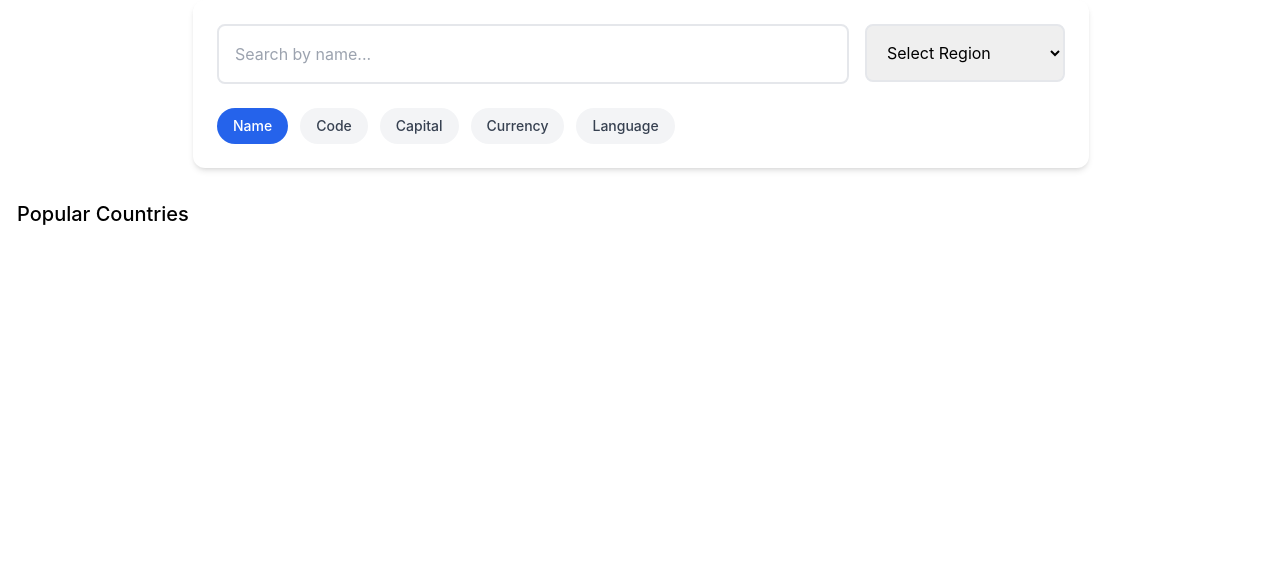
SearchPage › clears error when typing after failure
Type "fail" into the field with placeholder "Search by name..." at (533, 54), box [217, 24, 849, 84]
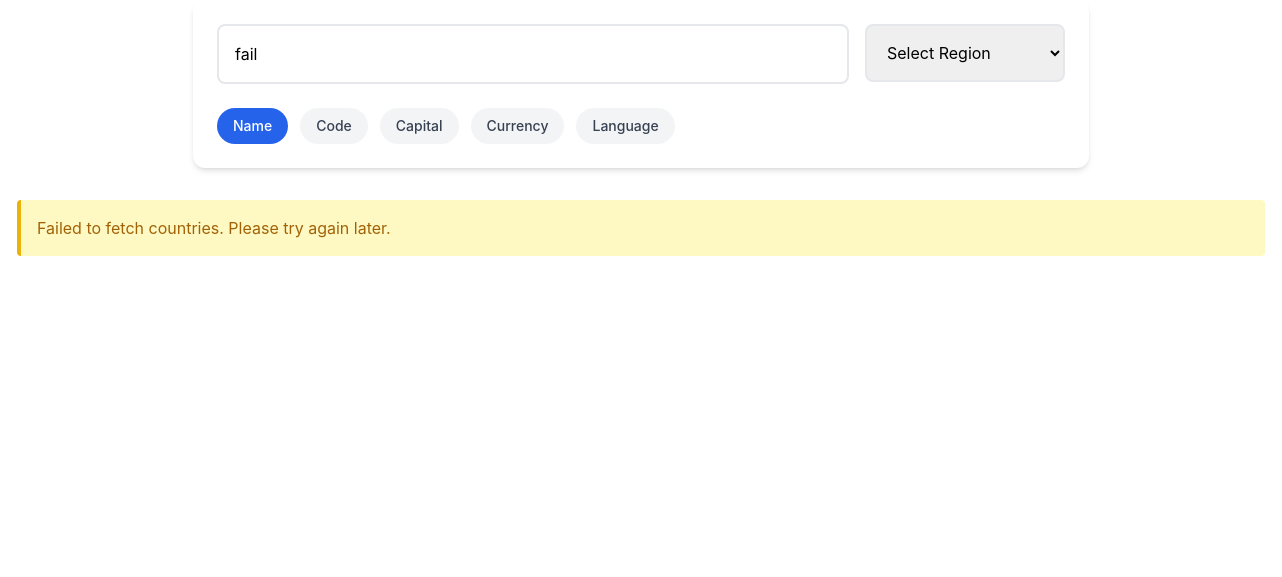
Expected: the text "Failed to fetch countries. Please try again later." is shown, [17, 200, 1265, 256]
Typing again should clear error
Replace the text in the field with placeholder "Search by name..." with "recover" at (533, 54), box [217, 24, 849, 84]
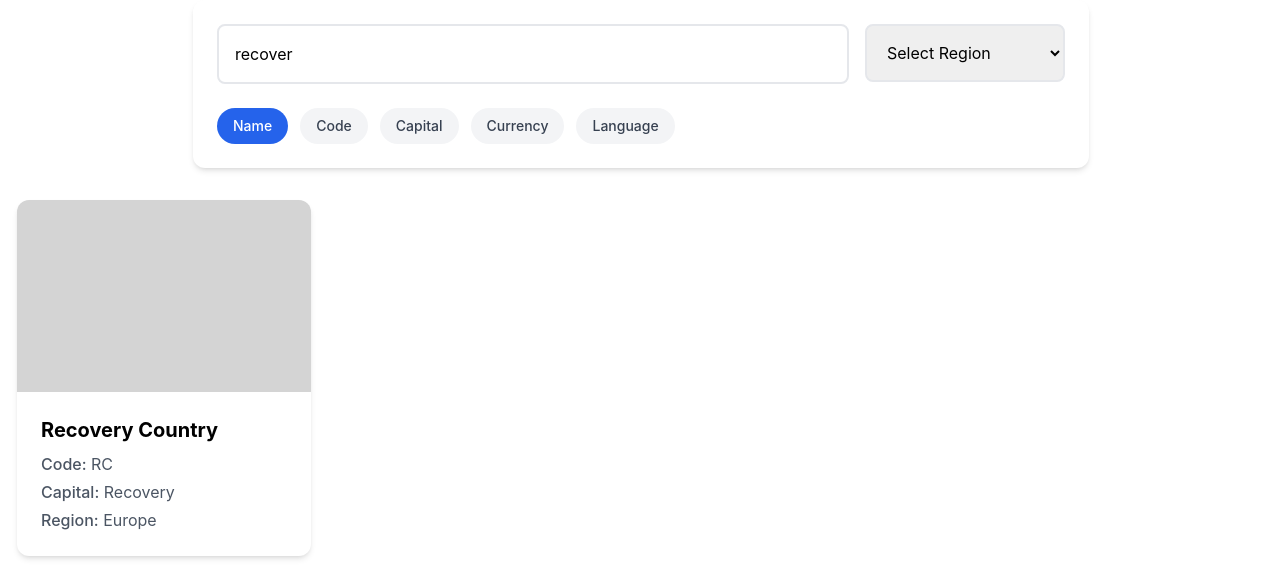
Expected: the text "Failed to fetch countries" is gone
Expected: the heading "Recovery Country" is shown, [41, 418, 218, 442]
